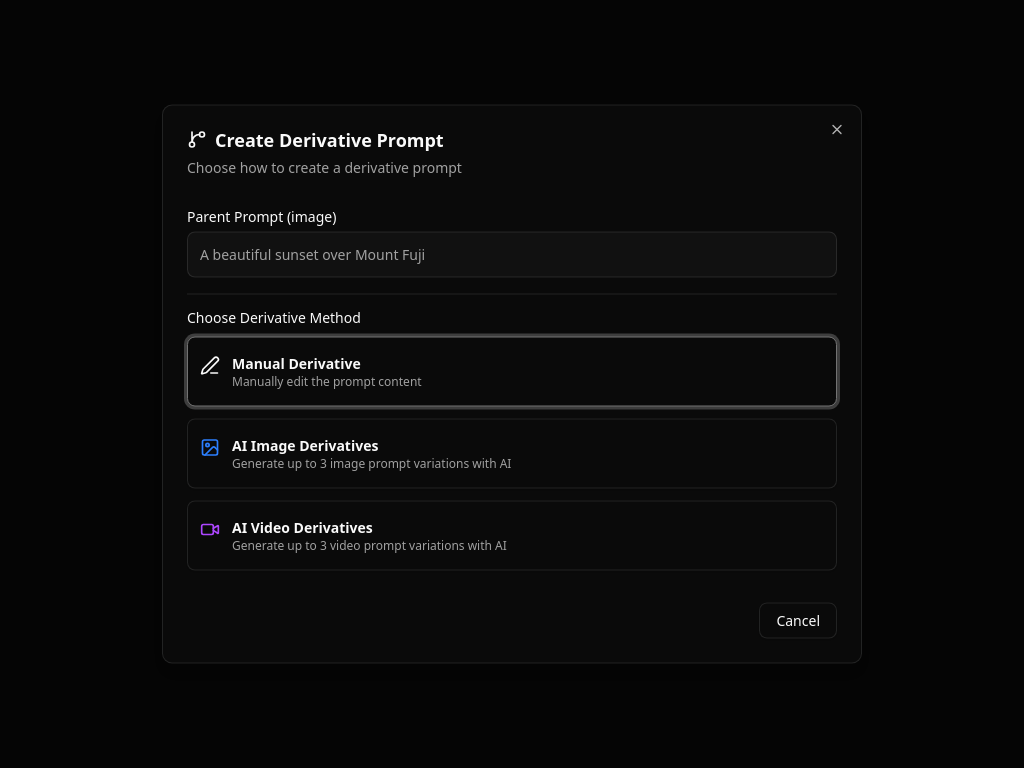
DerivativePromptModal › AI Image Mode › should switch to AI image mode when clicked
The width and height of the screenshot is (1024, 768).
What coordinates should you click on to do the following:
click the text "AI Image Derivatives"
I would click on:
 (305, 445)
Its box is [232,436,378,454].
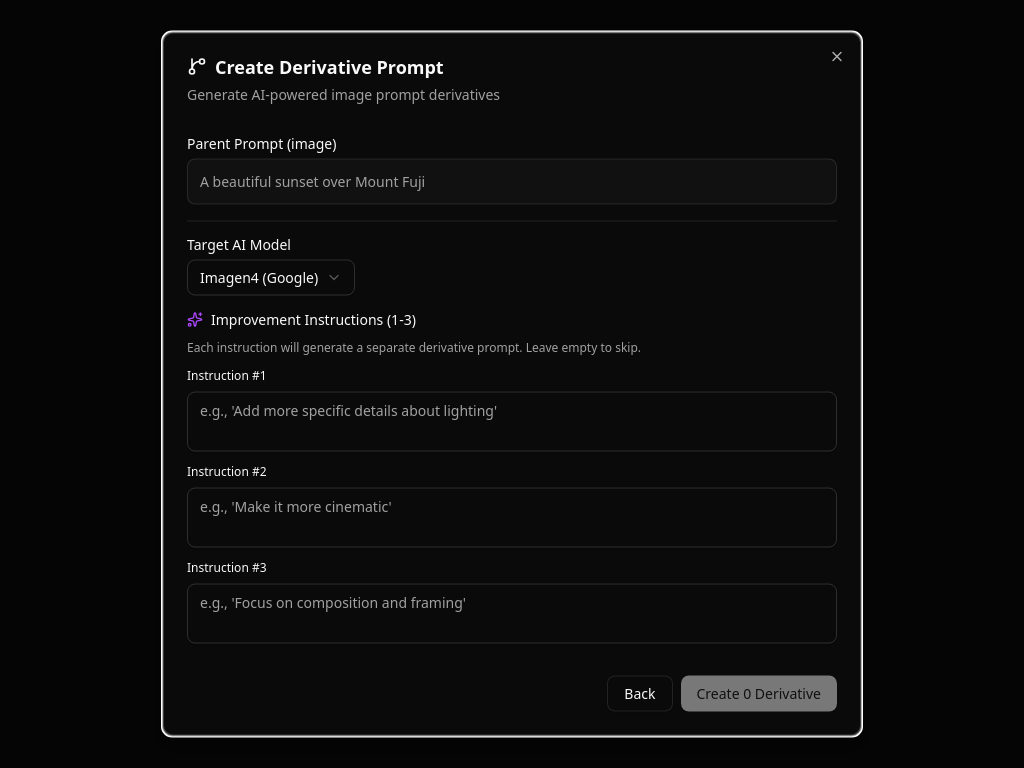
Check: the text "Generate AI-powered image prompt derivatives" is shown, box [187,84,500,104]
Check: the dropdown named "Target AI Model" is shown, box [187,260,355,296]
Check: the text box labelled "Instruction #1" is shown, box [187,392,837,452]
